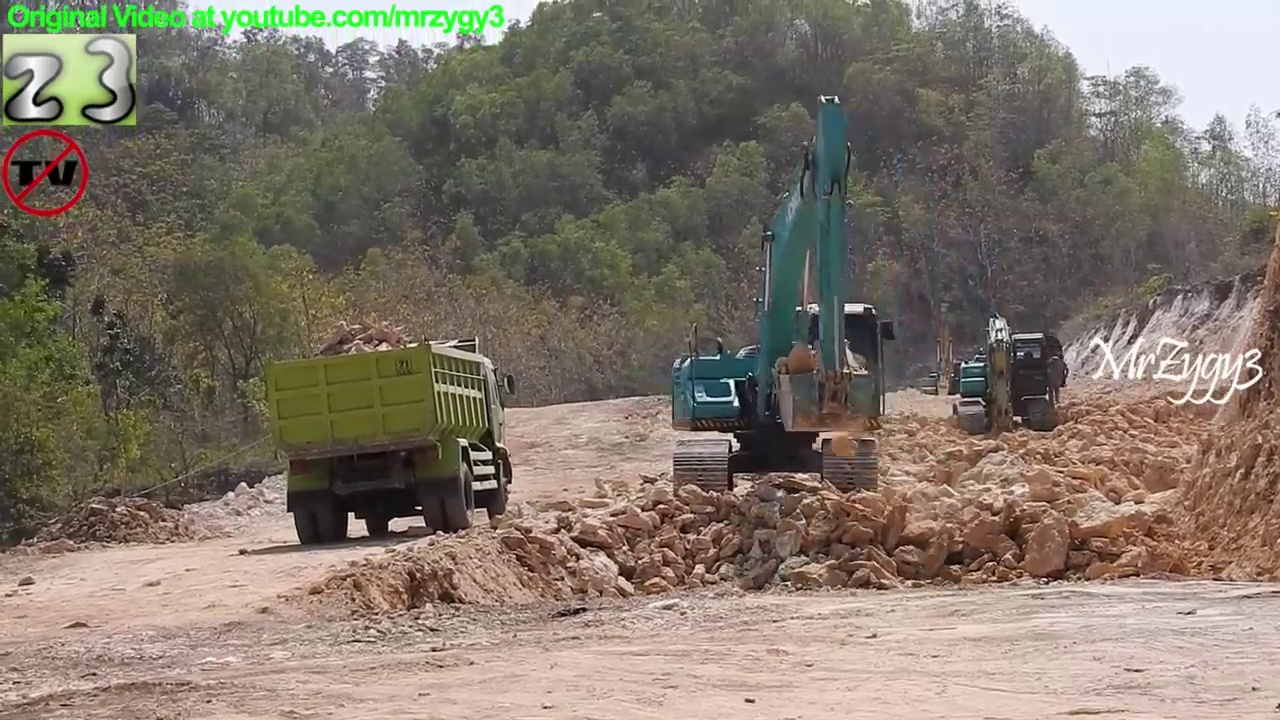excavator: (660, 85, 905, 507), (915, 298, 979, 409)
excavator breaker: (947, 306, 1075, 447)
truck: (260, 330, 522, 550)
